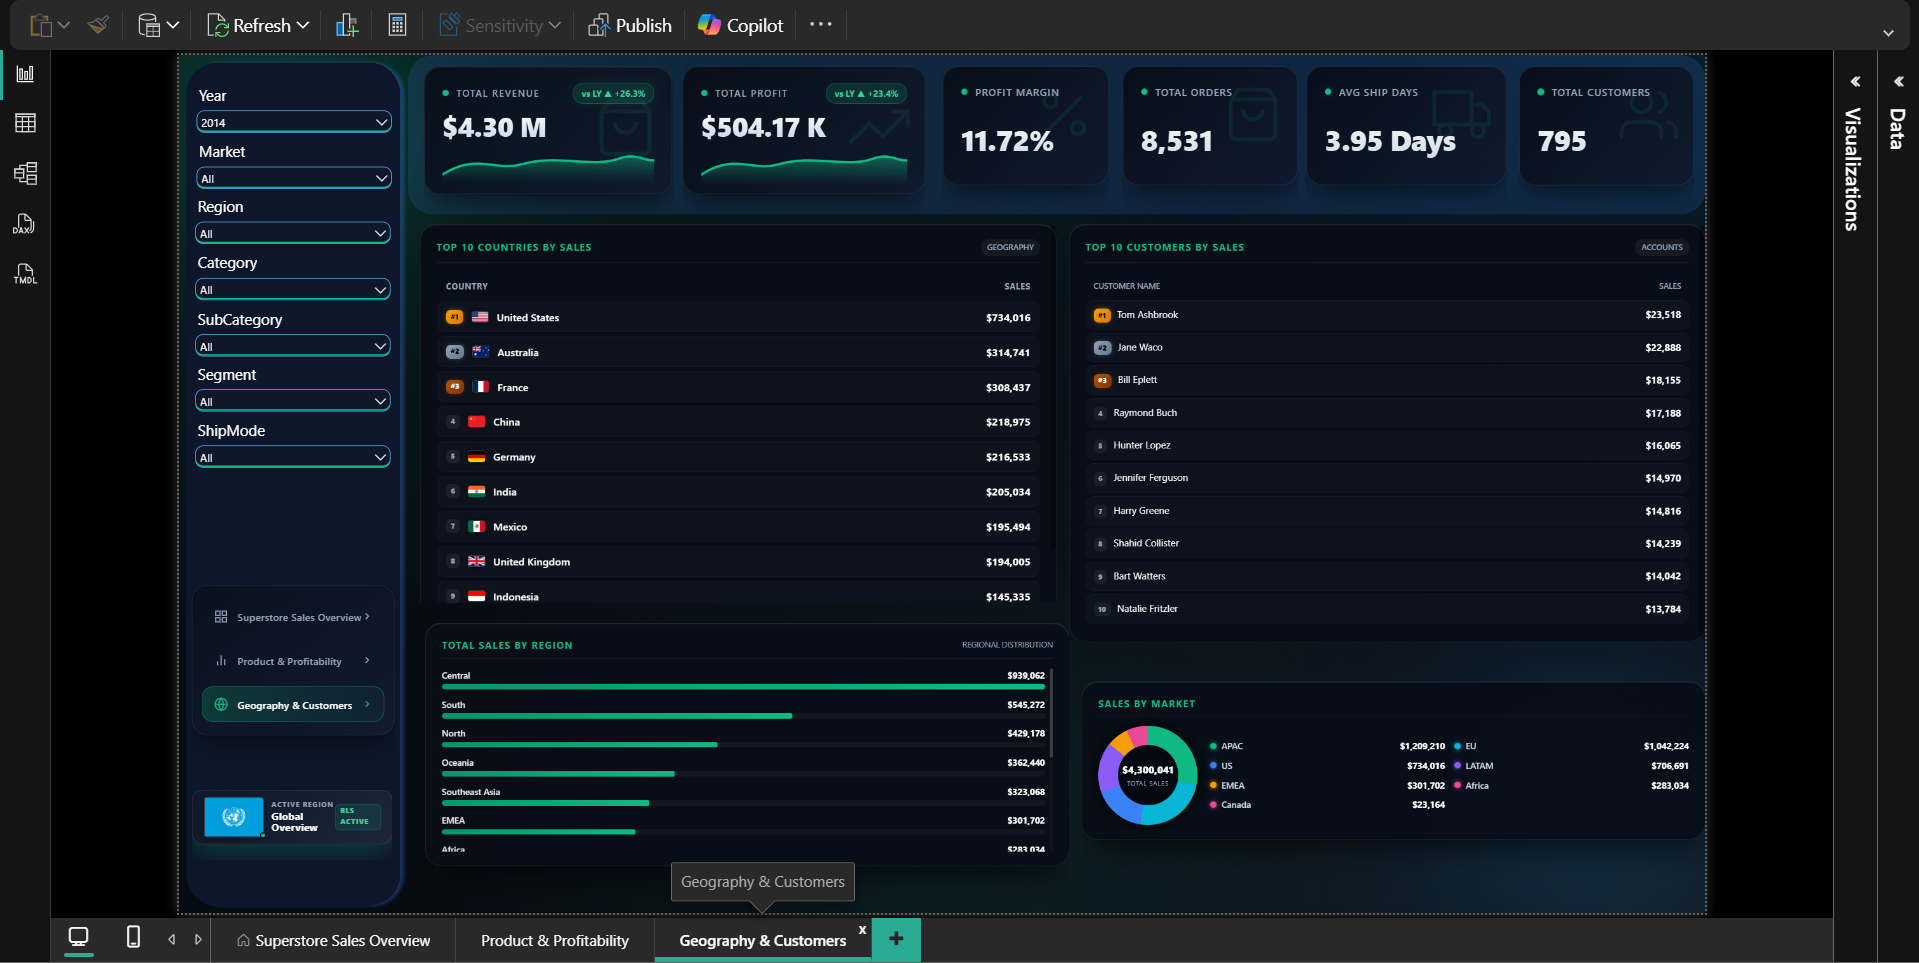

The page's visual inventory and layout, read from the dashboard file:
{"tool":"powerbi","page":{"name":"Geography & Customers","canvas":[1920,1080],"ordinal":2},"visuals":[{"type":"shape","box":[0,0,288,1079.9],"z":0},{"type":"slicer","fields":{"Values":["dw DimDate.Year"]},"box":[18,37.8,255.6,70.2],"z":1000},{"type":"slicer","fields":{"Values":["dw DimGeography.Market"]},"box":[18,108,255.6,70.2],"z":2000},{"type":"slicer","fields":{"Values":["dw DimGeography.Region"]},"box":[16.2,178.2,255.6,70.2],"z":3000},{"type":"slicer","fields":{"Values":["dw DimProduct.Category"]},"box":[16.2,248.4,255.6,70.2],"z":4000},{"type":"slicer","fields":{"Values":["dw DimProduct.SubCategory"]},"box":[16.2,318.6,255.6,70.2],"z":5000},{"type":"slicer","fields":{"Values":["dw DimCustomer.Segment"]},"box":[16.2,388.8,255.6,70.2],"z":6000},{"type":"slicer","fields":{"Values":["dw DimShipping.ShipMode"]},"box":[16.2,458.9,255.6,66.6],"z":7000},{"type":"pageNavigator","box":[17,590.4,253.5,238.2],"z":8000},{"type":"barChart","fields":{"Category":["dw DimGeography.Region"],"Y":["dw FactSales.Total Sales"]},"box":[1037.8,212.7,847.3,260.3],"z":9000},{"type":"donutChart","title":"Sales By Market","fields":{"Y":["dw FactSales.Total Sales"],"Category":["dw DimGeography.Market"]},"box":[303.5,200.6,734.3,259.9],"z":10000},{"type":"tableEx","title":"TOP 10 Countries By Sales","fields":{"Values":["dw DimGeography.Country","dw FactSales.Total Sales"]},"box":[303.5,477.9,781.4,249.4],"z":11000},{"type":"barChart","title":"Sales By ShipMode","fields":{"Category":["dw DimShipping.ShipMode"],"Y":["dw FactSales.Total Sales"]},"box":[1093.6,467.4,826.7,259.9],"z":12000},{"type":"tableEx","title":"TOP 10 Customers By Sales","fields":{"Values":["dw DimCustomer.CustomerName","Sum(dw FactSales.Sales)","Sum(dw FactSales.Profit)","dw FactSales.Profit Margin %"]},"box":[340.1,709.9,1580.8,370.5],"z":13000},{"type":"cardVisual","fields":{"Data":["dw FactSales.Total Sales"]},"box":[304.4,14.4,291.8,187.3],"z":14000},{"type":"lineChart","fields":{"Y":["dw FactSales.Total Sales"],"Category":["dw DimDate.Month"]},"box":[270.2,108.1,326,79.2],"z":15000},{"type":"cardVisual","fields":{"Data":["dw FactSales.Total Profit"]},"box":[623.2,14.4,291.8,187.3],"z":16000},{"type":"lineChart","fields":{"Y":["dw FactSales.Total Profit"],"Category":["dw DimDate.Month"]},"box":[596.5,104.7,315.2,79.2],"z":16001},{"type":"cardVisual","fields":{"Data":["dw FactSales.Profit Margin %"]},"box":[943.8,14.4,291.8,187.3],"z":16002},{"type":"cardVisual","fields":{"Data":["dw FactSales.Orders"]},"box":[1266.2,14.4,291.8,187.3],"z":16003},{"type":"cardVisual","fields":{"Data":["dw FactSales.Total Customers"]},"box":[1594,14.4,291.8,187.3],"z":16004}]}

Visuals, with their boxes on the page's 1920x1080 design canvas (x1, y1, x2, y2). These are canvas units, not pixel positions in the 1919x963 screenshot, which may show the page scaled, cropped or inside an application window:
shape: 0:0:288:1080
slicer - dw DimDate.Year: 18:38:274:108
slicer - dw DimGeography.Market: 18:108:274:178
slicer - dw DimGeography.Region: 16:178:272:248
slicer - dw DimProduct.Category: 16:248:272:319
slicer - dw DimProduct.SubCategory: 16:319:272:389
slicer - dw DimCustomer.Segment: 16:389:272:459
slicer - dw DimShipping.ShipMode: 16:459:272:526
pageNavigator: 17:590:270:829
barChart - dw DimGeography.Region x dw FactSales.Total Sales: 1038:213:1885:473
"Sales By Market" donutChart: 304:201:1038:460
"TOP 10 Countries By Sales" tableEx: 304:478:1085:727
"Sales By ShipMode" barChart: 1094:467:1920:727
"TOP 10 Customers By Sales" tableEx: 340:710:1921:1080
cardVisual - dw FactSales.Total Sales: 304:14:596:202
lineChart - dw FactSales.Total Sales x dw DimDate.Month: 270:108:596:187
cardVisual - dw FactSales.Total Profit: 623:14:915:202
lineChart - dw FactSales.Total Profit x dw DimDate.Month: 596:105:912:184
cardVisual - dw FactSales.Profit Margin %: 944:14:1236:202
cardVisual - dw FactSales.Orders: 1266:14:1558:202
cardVisual - dw FactSales.Total Customers: 1594:14:1886:202
